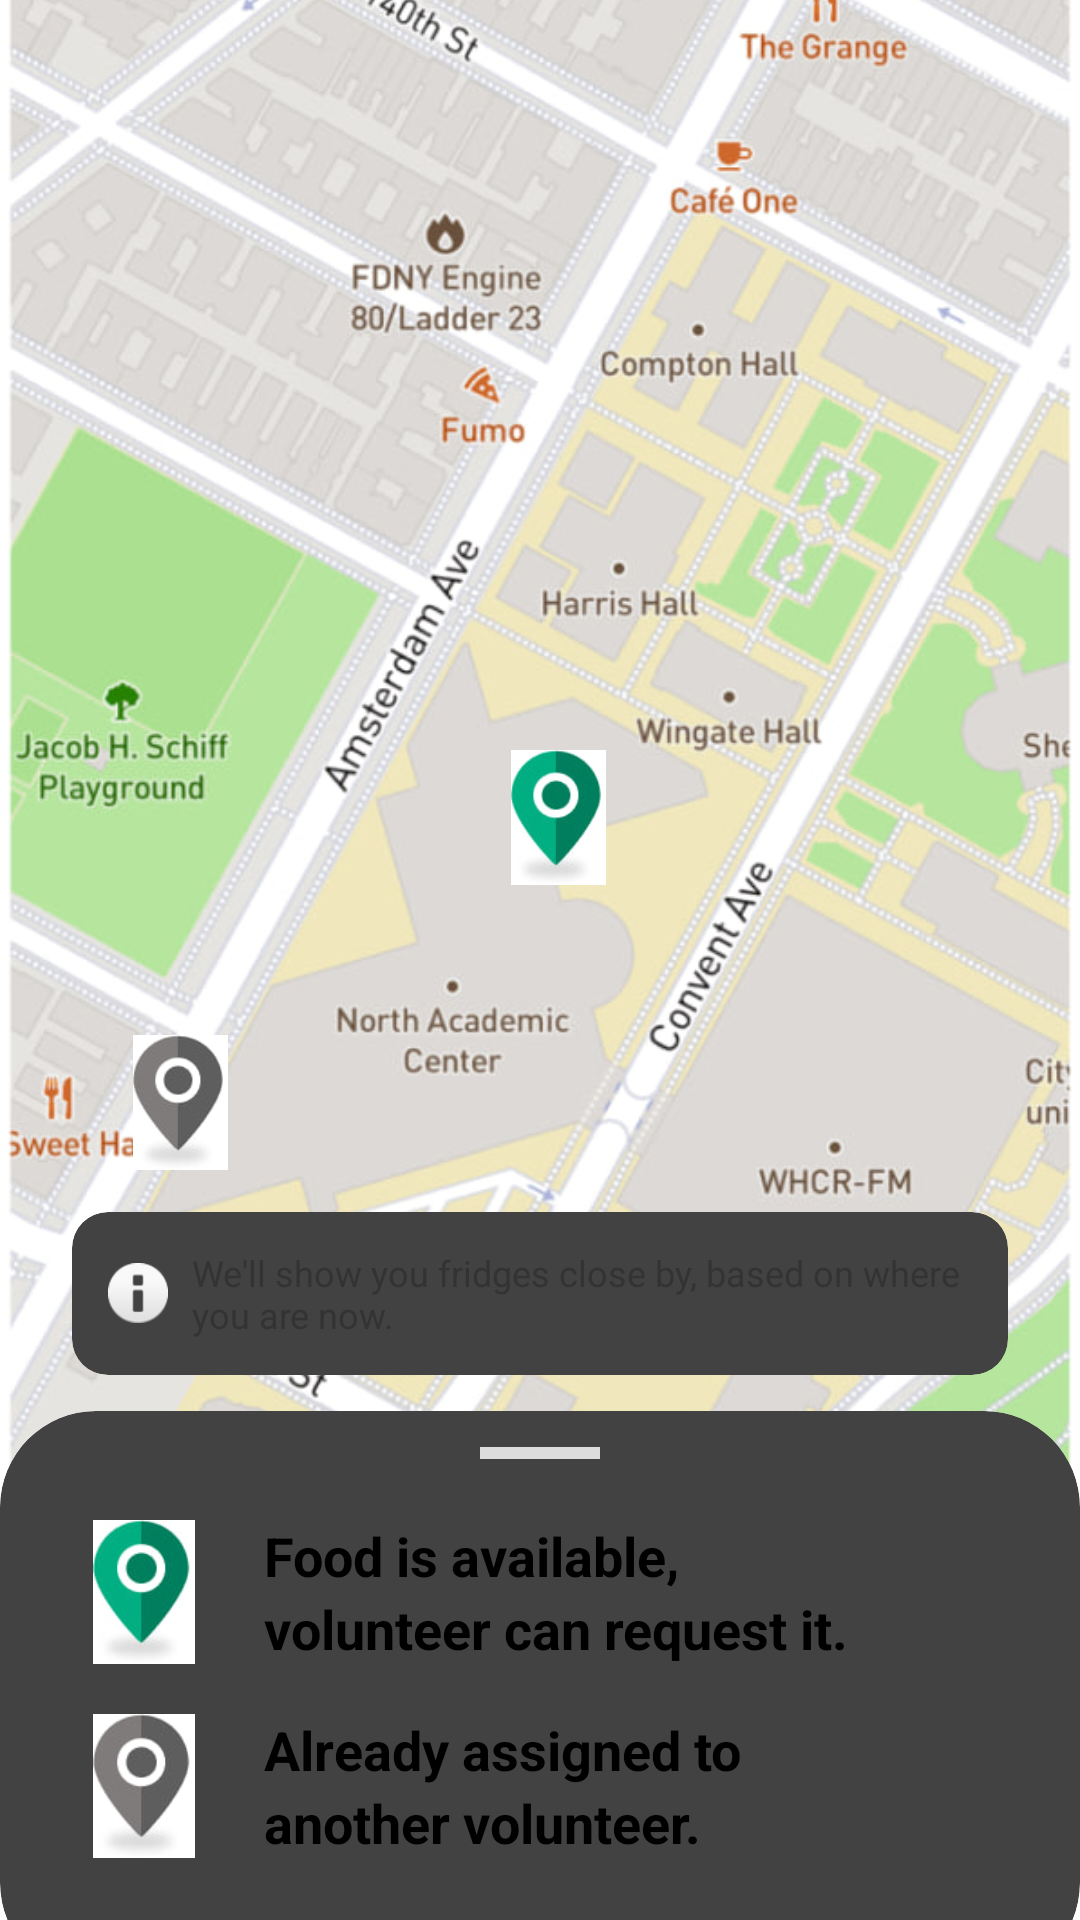

Point at icon controls on the screen. Image size 1080x1920, points as point (x, y).
info: point (138, 1293)
location: point (568, 817), point (175, 1102), point (144, 1592), point (144, 1786)
